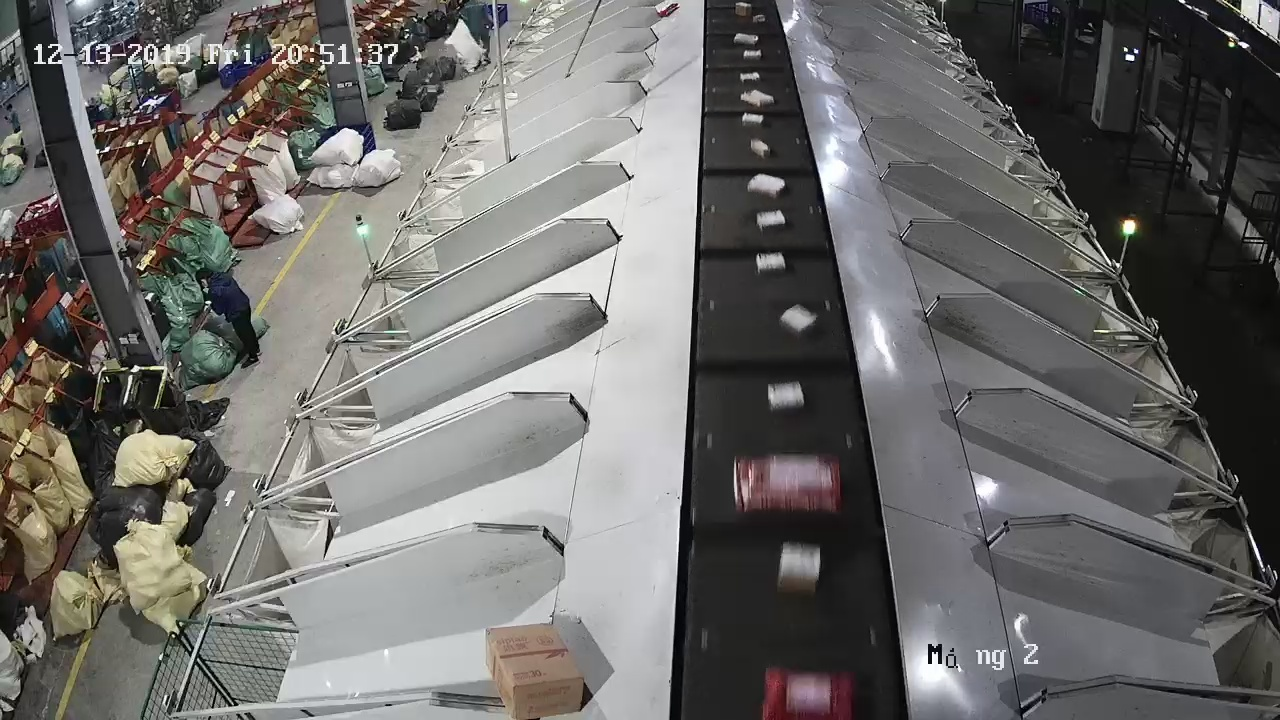parcel: (777, 302, 818, 340)
